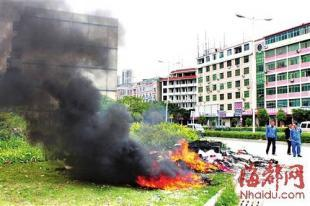smoke: (1, 1, 157, 178)
